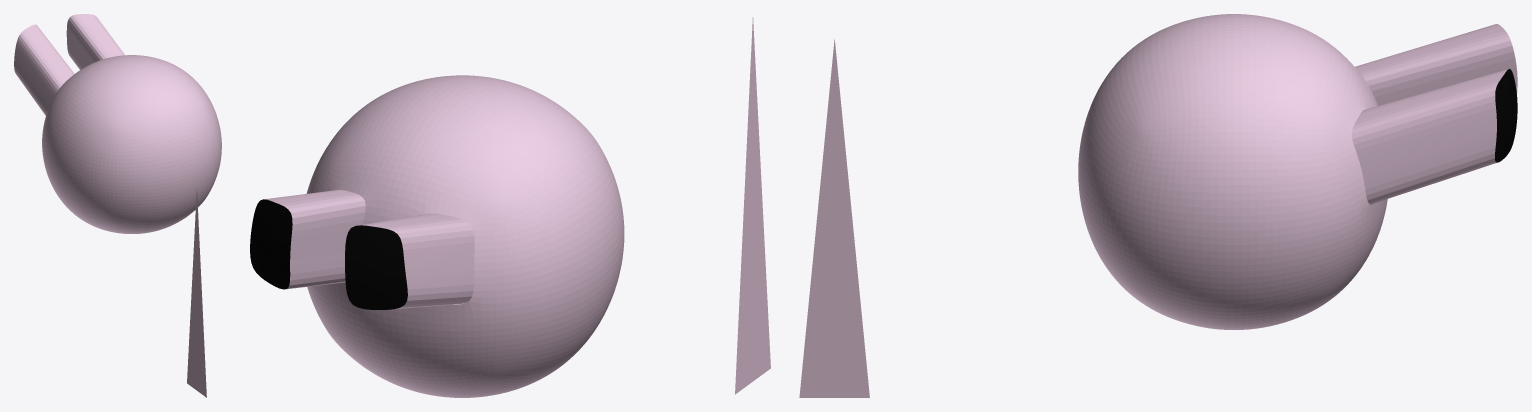
File: BallCharacter.glb
3 renders of one model, left to right at view 1: azimuth 30°, elevation 25°; view 2: azimuth 150°, elevation 25°; view 3: azimuth 270°, elevation 25°, orthographic. The views are drawn at different scales.
Parts seen in each view (by area): view 1: Body, Eyes, Fur; view 2: Body, Eyes, Fur; view 3: Body, Eyes, Fur.
Boxes of the visible parts, box(x1,y1,x2,y2) form: Body: box(42, 55, 221, 233); Eyes: box(14, 14, 124, 115); Fur: box(187, 189, 206, 397); Body: box(306, 75, 624, 397); Eyes: box(250, 189, 474, 309); Fur: box(735, 17, 770, 394); Body: box(1078, 14, 1387, 329); Eyes: box(1351, 24, 1517, 204); Fur: box(799, 39, 869, 397).
Size of the model in its own units: 0.332 by 0.4803 by 0.7652.
